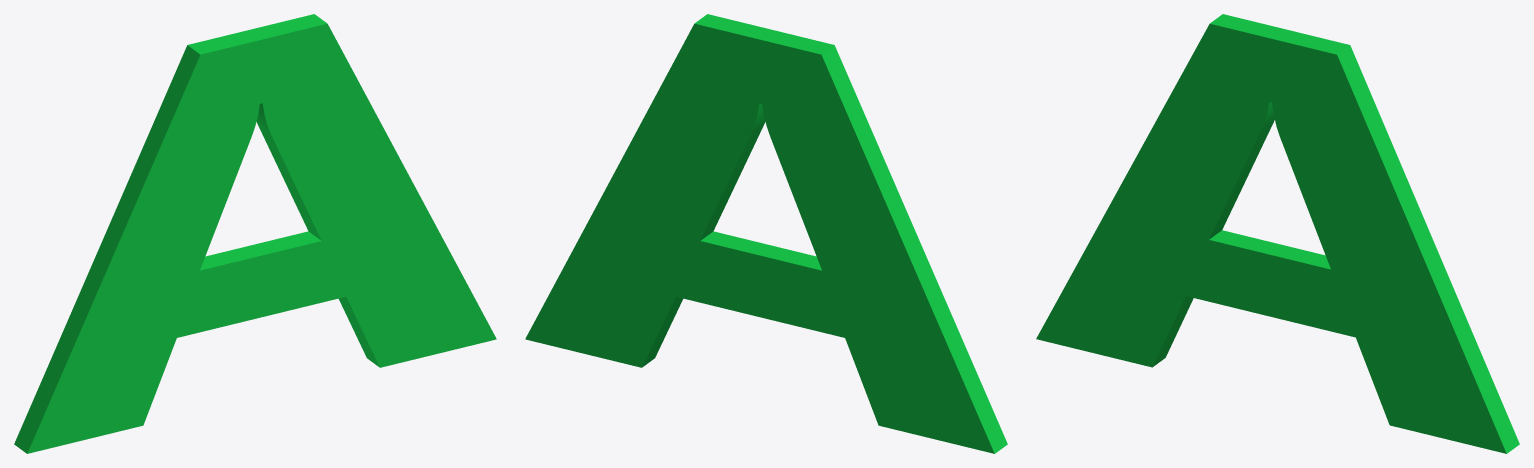
The picture shows the model from 3 angles, left to right: view 1: azimuth 30°, elevation 25°; view 2: azimuth 150°, elevation 25°; view 3: azimuth 330°, elevation 25°; orthographic projection.
Parts seen in each view (by area): view 1: node_id84; view 2: node_id84; view 3: node_id84.
Part boxes in pixels (x1,y1,x2,y2): node_id84: (14,14,496,453); node_id84: (525,14,1007,453); node_id84: (1036,14,1519,453).
Bounding box in the file's own units: 0.6715 × 0.4878 × 0.0326.
